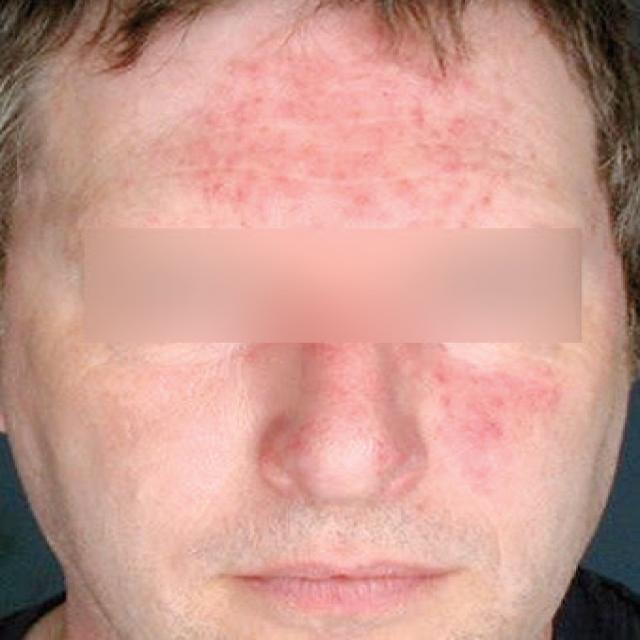Rosacea: (123, 46, 555, 232), (407, 343, 569, 495), (250, 342, 414, 476)
